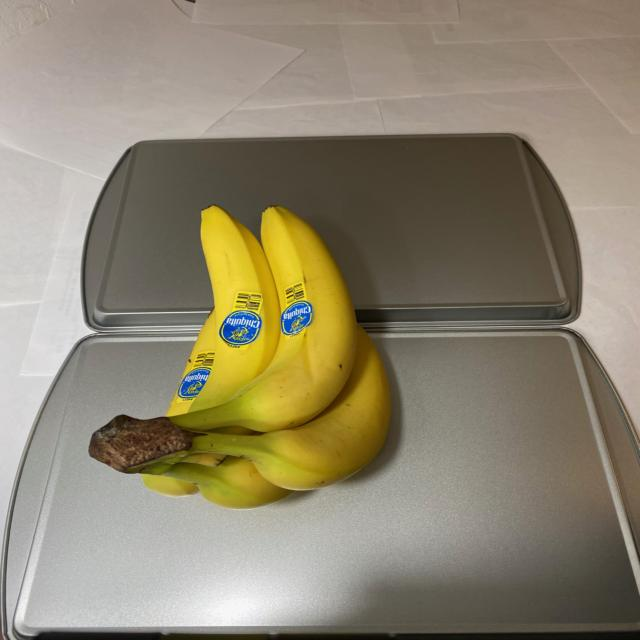banana: (84, 201, 398, 507)
